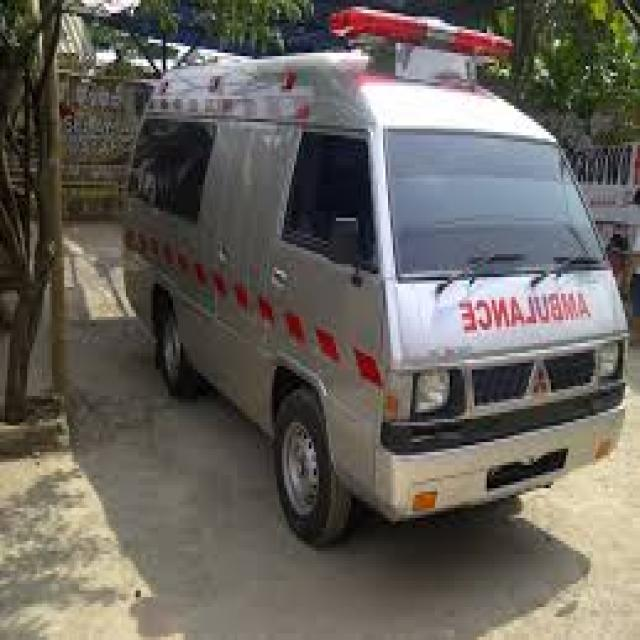emergency-vehicle: (118, 6, 628, 548)
